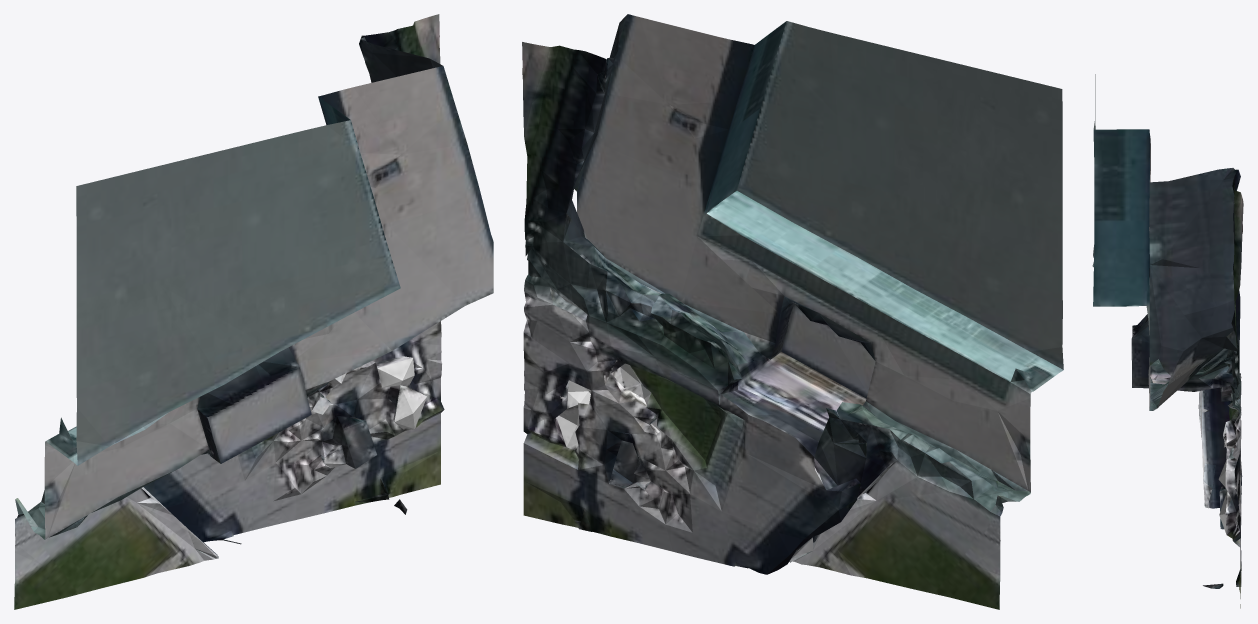
The model's file is Tile_+032_+022_L18_00030.obj.
The picture shows the model from 3 angles, left to right: view 1: azimuth 30°, elevation 25°; view 2: azimuth 150°, elevation 25°; view 3: azimuth 270°, elevation 25°; orthographic projection. The views are drawn at different scales.
Bounding box in the file's own units: 63.5 × 63.5 × 21.39.
1 material, 1 textured.
